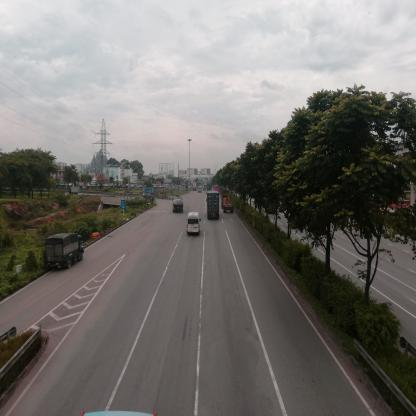car: (188, 213, 202, 235)
container: (207, 193, 220, 220), (224, 192, 232, 210)
truck: (46, 234, 85, 269), (174, 197, 185, 214), (69, 187, 79, 196)
